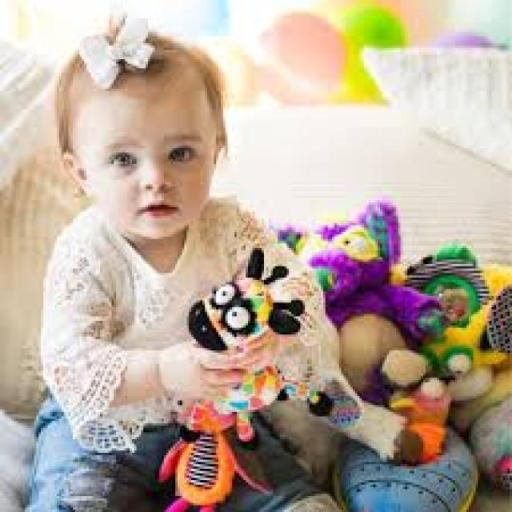baby: (25, 28, 276, 512)
